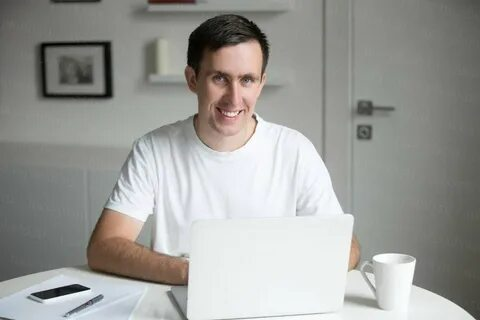awake: (86, 13, 362, 285)
